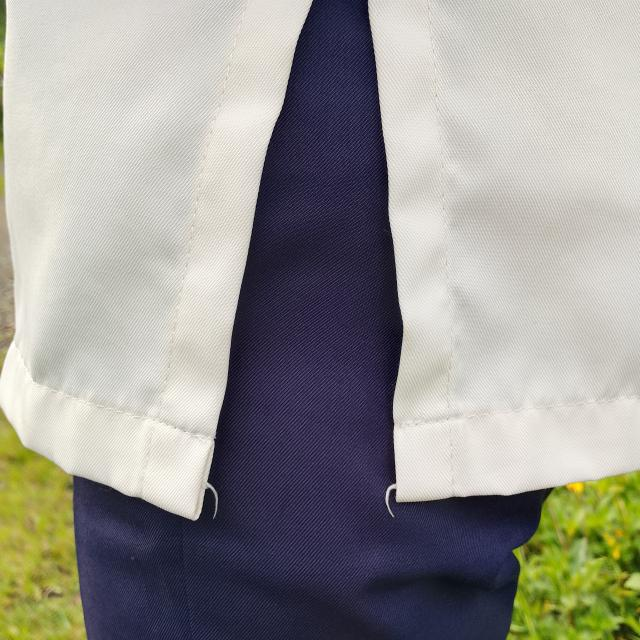education_male_uniform: (21, 0, 635, 537)
